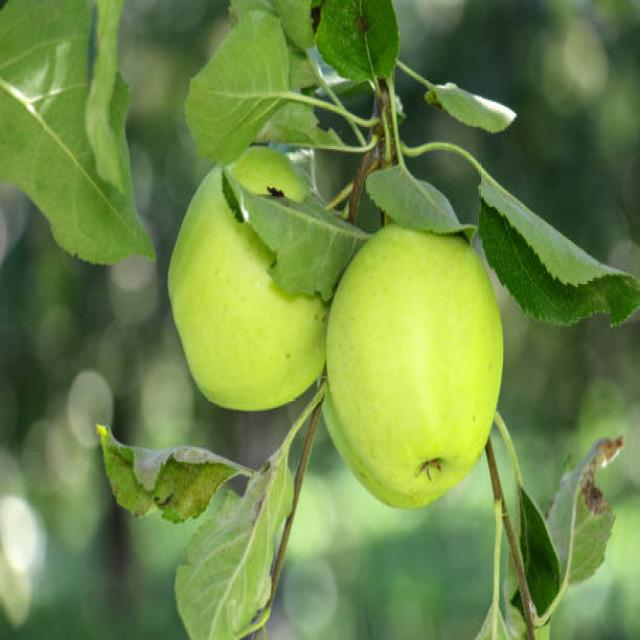Unripe: (326, 218, 505, 510), (169, 150, 328, 412)
